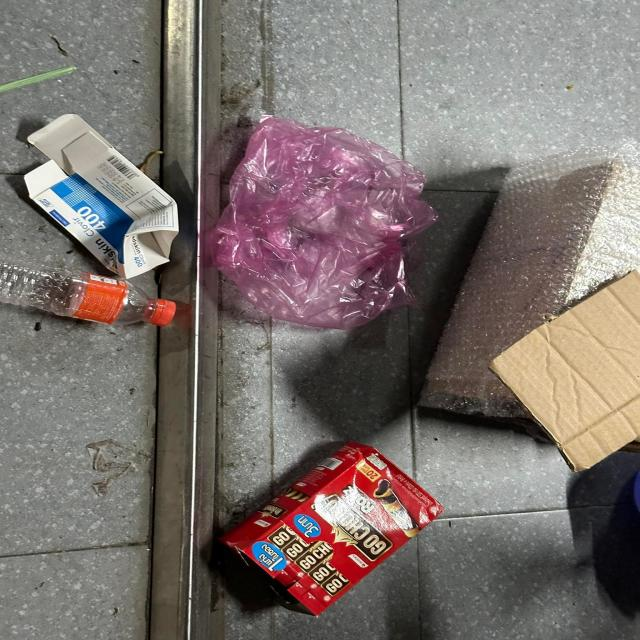bag: (207, 114, 443, 332)
bottle: (0, 260, 178, 328)
cardboard box: (218, 441, 448, 618), (21, 114, 180, 280)
drinking straw: (0, 64, 78, 92)
